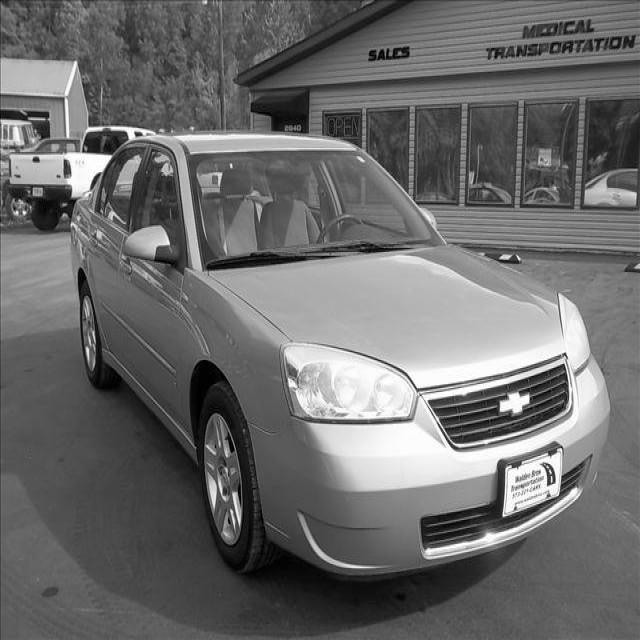car: (69, 129, 611, 582)
